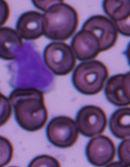M: (8, 39, 57, 90)
